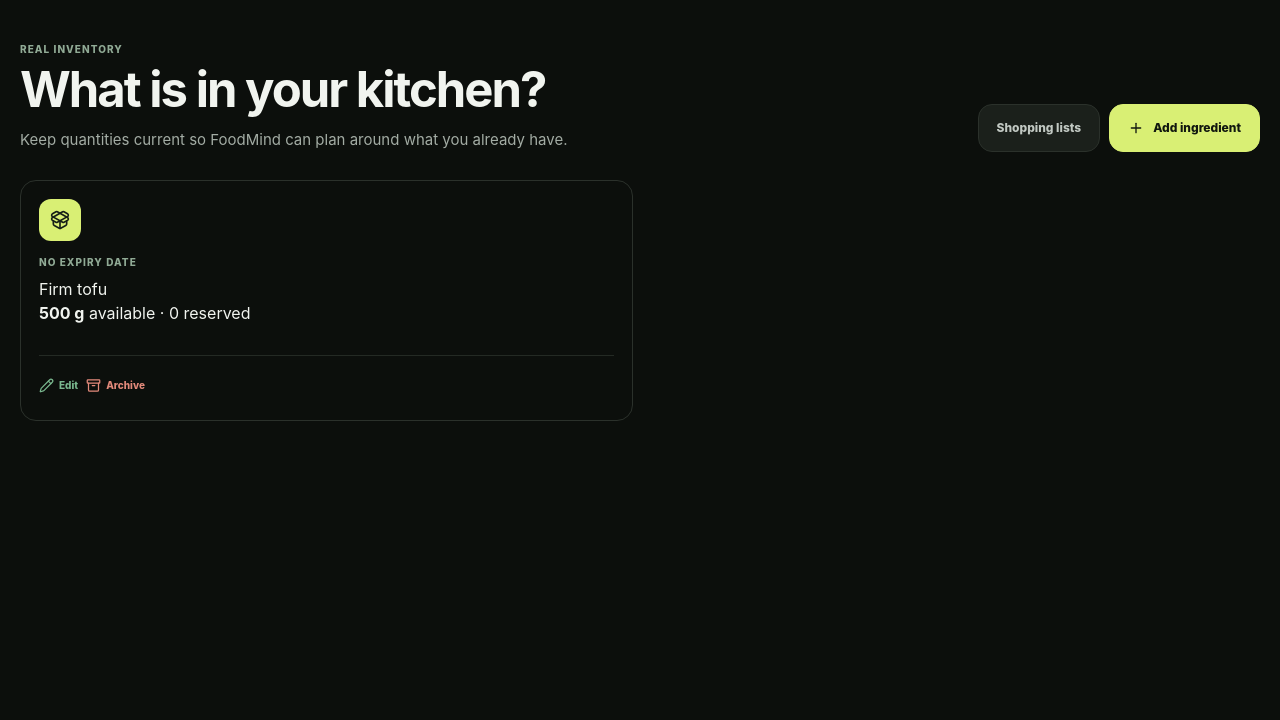
inventory expiry date › requires confirmation before archiving an ingredient
Expected: the heading "Firm tofu" is shown, [39,279,107,299]
Click the button "Archive".
click(116, 385)  # box [86,368,145,402]
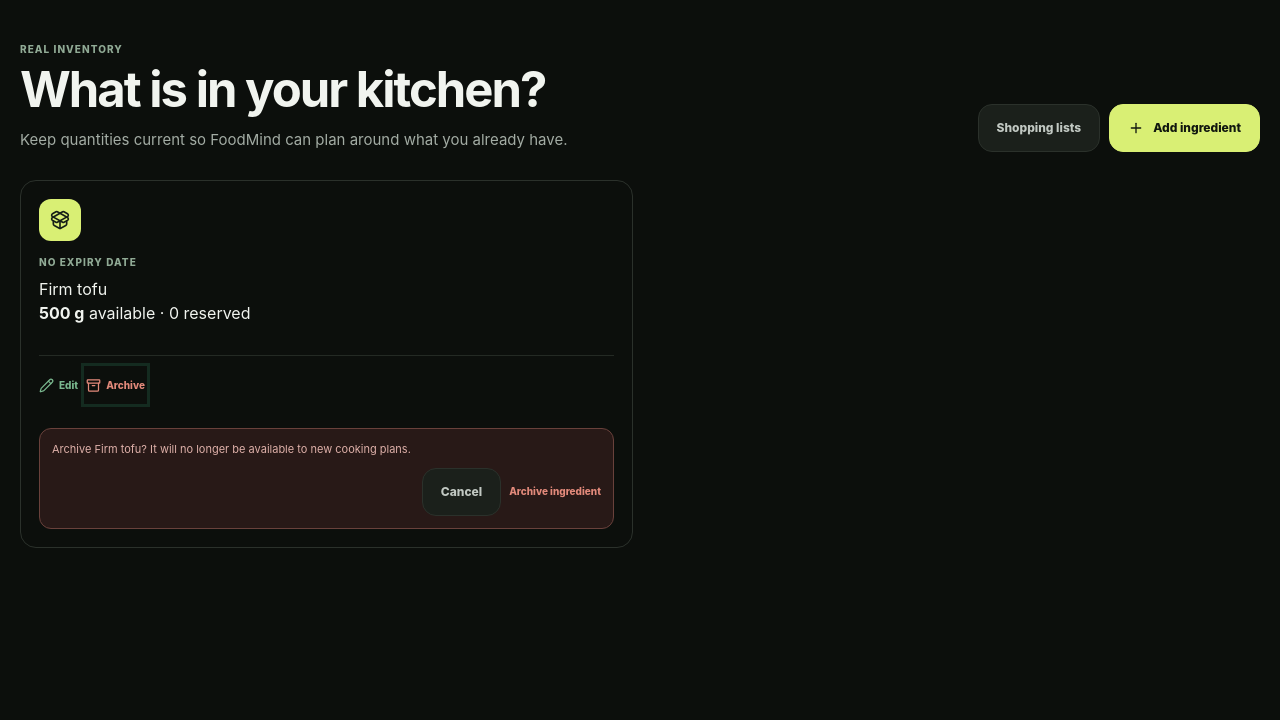
Expected: the text "Archive Firm tofu?" is shown, [52,442,411,456]
Click the button "Archive ingredient".
click(555, 492)  # box [509,468,601,516]
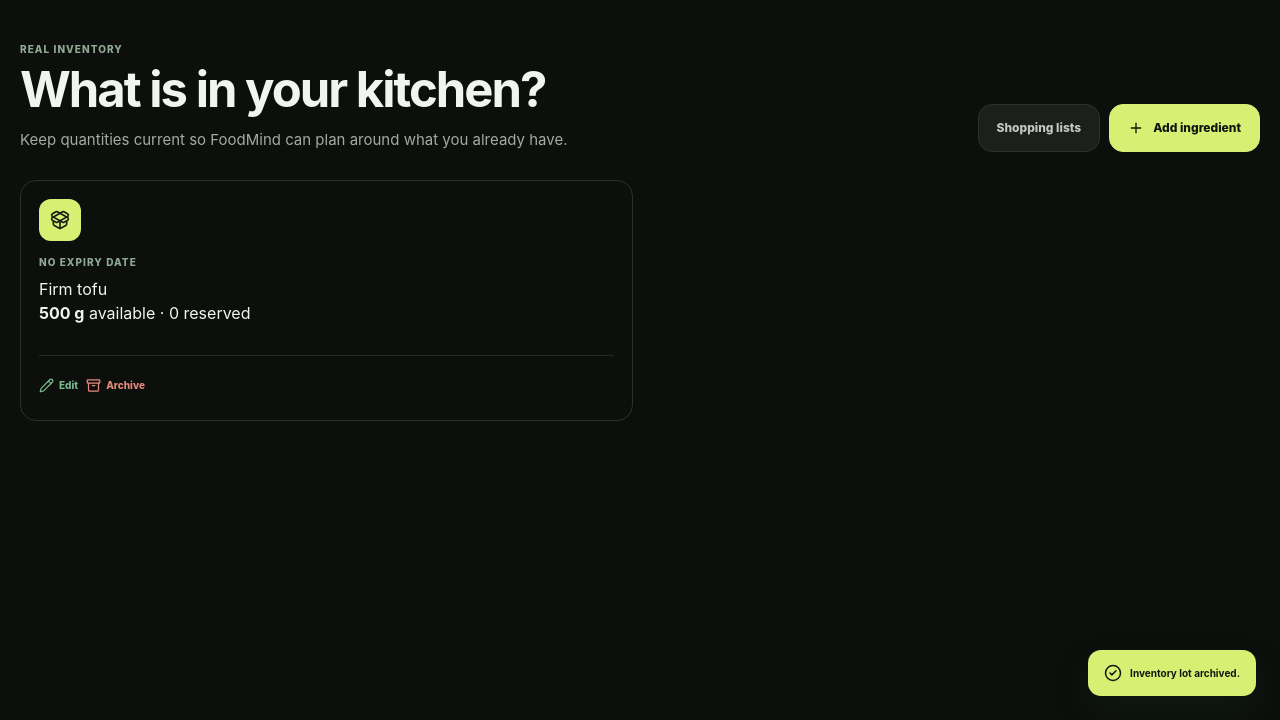
Expected: the text "Inventory lot archived." is shown, [1088,650,1256,696]
